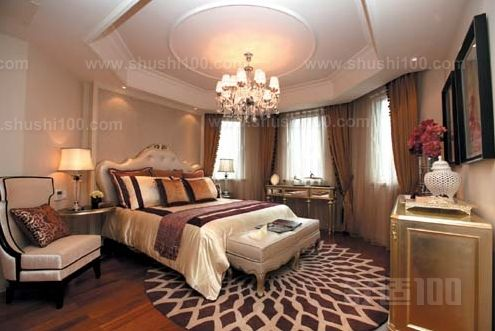床: (107, 196, 315, 285)
枕头: (110, 168, 216, 211)
灯: (214, 52, 279, 128), (53, 147, 92, 212), (212, 158, 237, 198), (118, 85, 128, 94)
